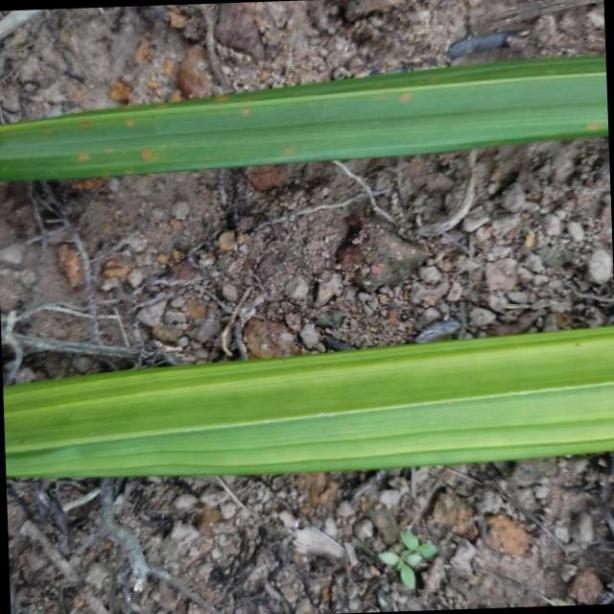nitrogen: (0, 325, 614, 481), (0, 49, 614, 180)
